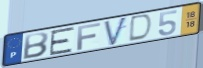5: (157, 9, 178, 36)
B: (22, 31, 50, 61)
D: (127, 13, 154, 43)
E: (48, 25, 76, 57)
F: (76, 22, 102, 52)
V: (103, 15, 129, 47)
